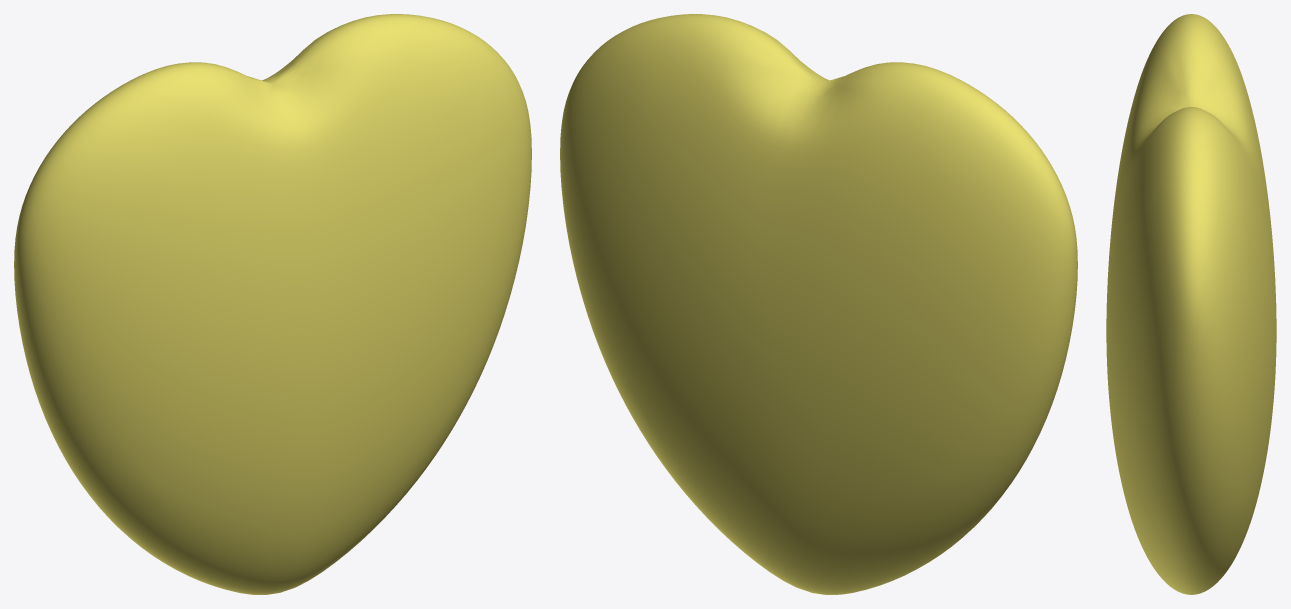
The model's file is yellow.glb.
3 views of the same model, side by side, from view 1: azimuth 30°, elevation 25°; view 2: azimuth 150°, elevation 25°; view 3: azimuth 270°, elevation 25° (orthographic). The views are drawn at different scales.
Visible parts, largest first — view 1: Cube; view 2: Cube; view 3: Cube.
Boxes of the visible parts, <box> form: Cube: <box>14,14,531,594</box>; Cube: <box>560,14,1077,594</box>; Cube: <box>1106,14,1276,594</box>.
Size of the model in its own units: 10.65 by 10.93 by 3.29.
